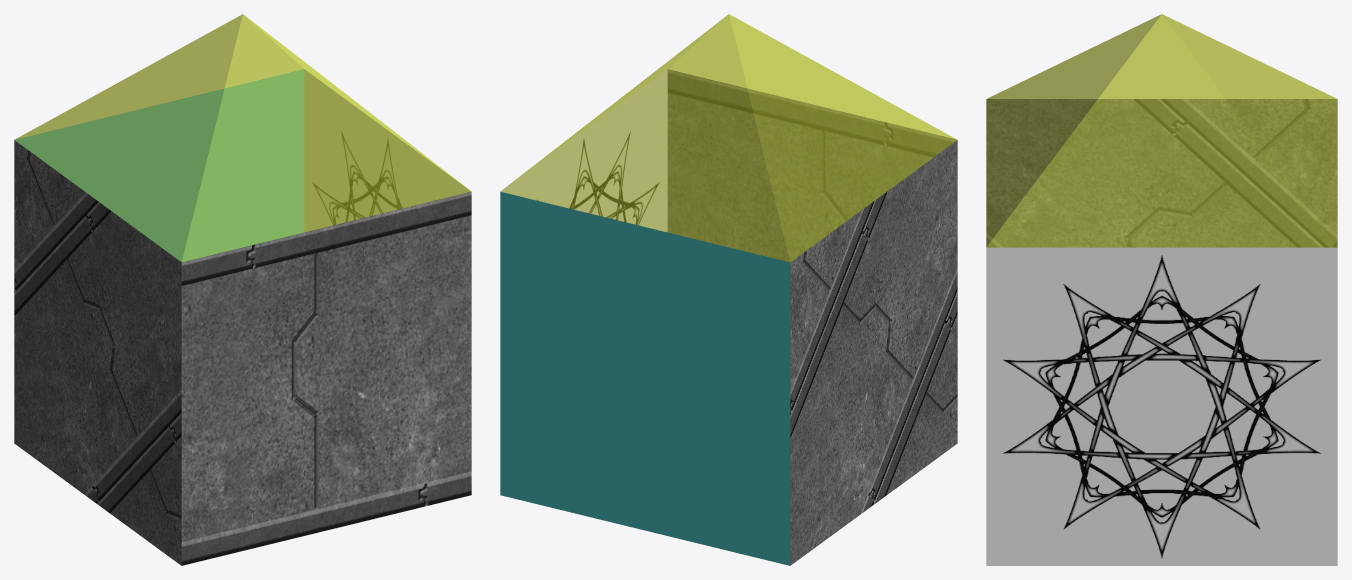
The model's file is testobj2.obj.
The picture shows the model from 3 angles, left to right: view 1: azimuth 30°, elevation 25°; view 2: azimuth 150°, elevation 25°; view 3: azimuth 270°, elevation 25°; orthographic projection. The views are drawn at different scales.
Visible parts, largest first — view 1: Backwards, Roof, Left, Forwards, Right; view 2: Forwards, Roof, Left, Backwards, Right; view 3: Right, Roof, Left.
Part boxes in pixels (x1,y1,x2,y2): Backwards: (181,191,471,565); Roof: (15,14,470,262); Left: (14,140,181,565); Forwards: (15,69,304,262); Right: (304,69,470,231); Forwards: (500,191,790,565); Roof: (501,14,956,262); Left: (790,140,957,565); Backwards: (667,69,956,262); Right: (501,69,667,231); Right: (986,247,1337,565); Roof: (986,14,1337,247); Left: (986,99,1337,247).
Size of the model in its own units: 1 by 1.5 by 1.
